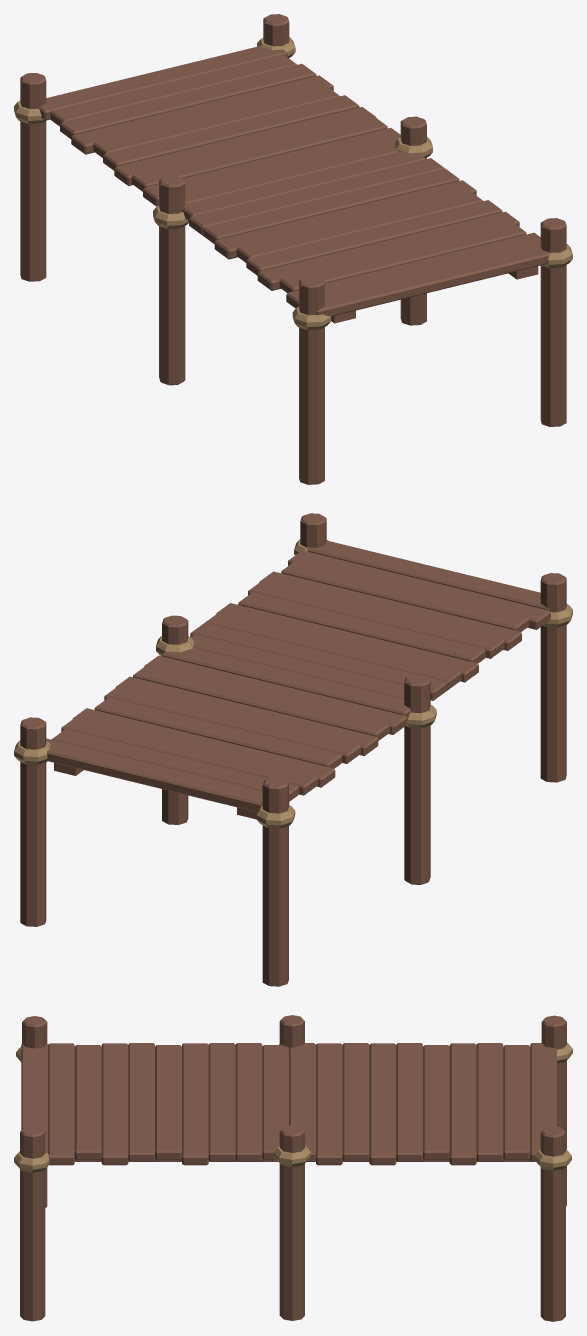
File: SM_Bridge.fbx
3 views of the same model, one above another, from view 1: azimuth 30°, elevation 25°; view 2: azimuth 150°, elevation 25°; view 3: azimuth 270°, elevation 25° (orthographic). The views are drawn at different scales.
Visible parts, largest first — view 1: SM_Bridge; view 2: SM_Bridge; view 3: SM_Bridge.
Boxes of the visible parts, x1,y1,x2,y2 form: SM_Bridge: (14, 14, 572, 484); SM_Bridge: (14, 513, 572, 986); SM_Bridge: (14, 1015, 572, 1321).
Bounding box in the file's own units: 3.45 × 2.38 × 6.43.
